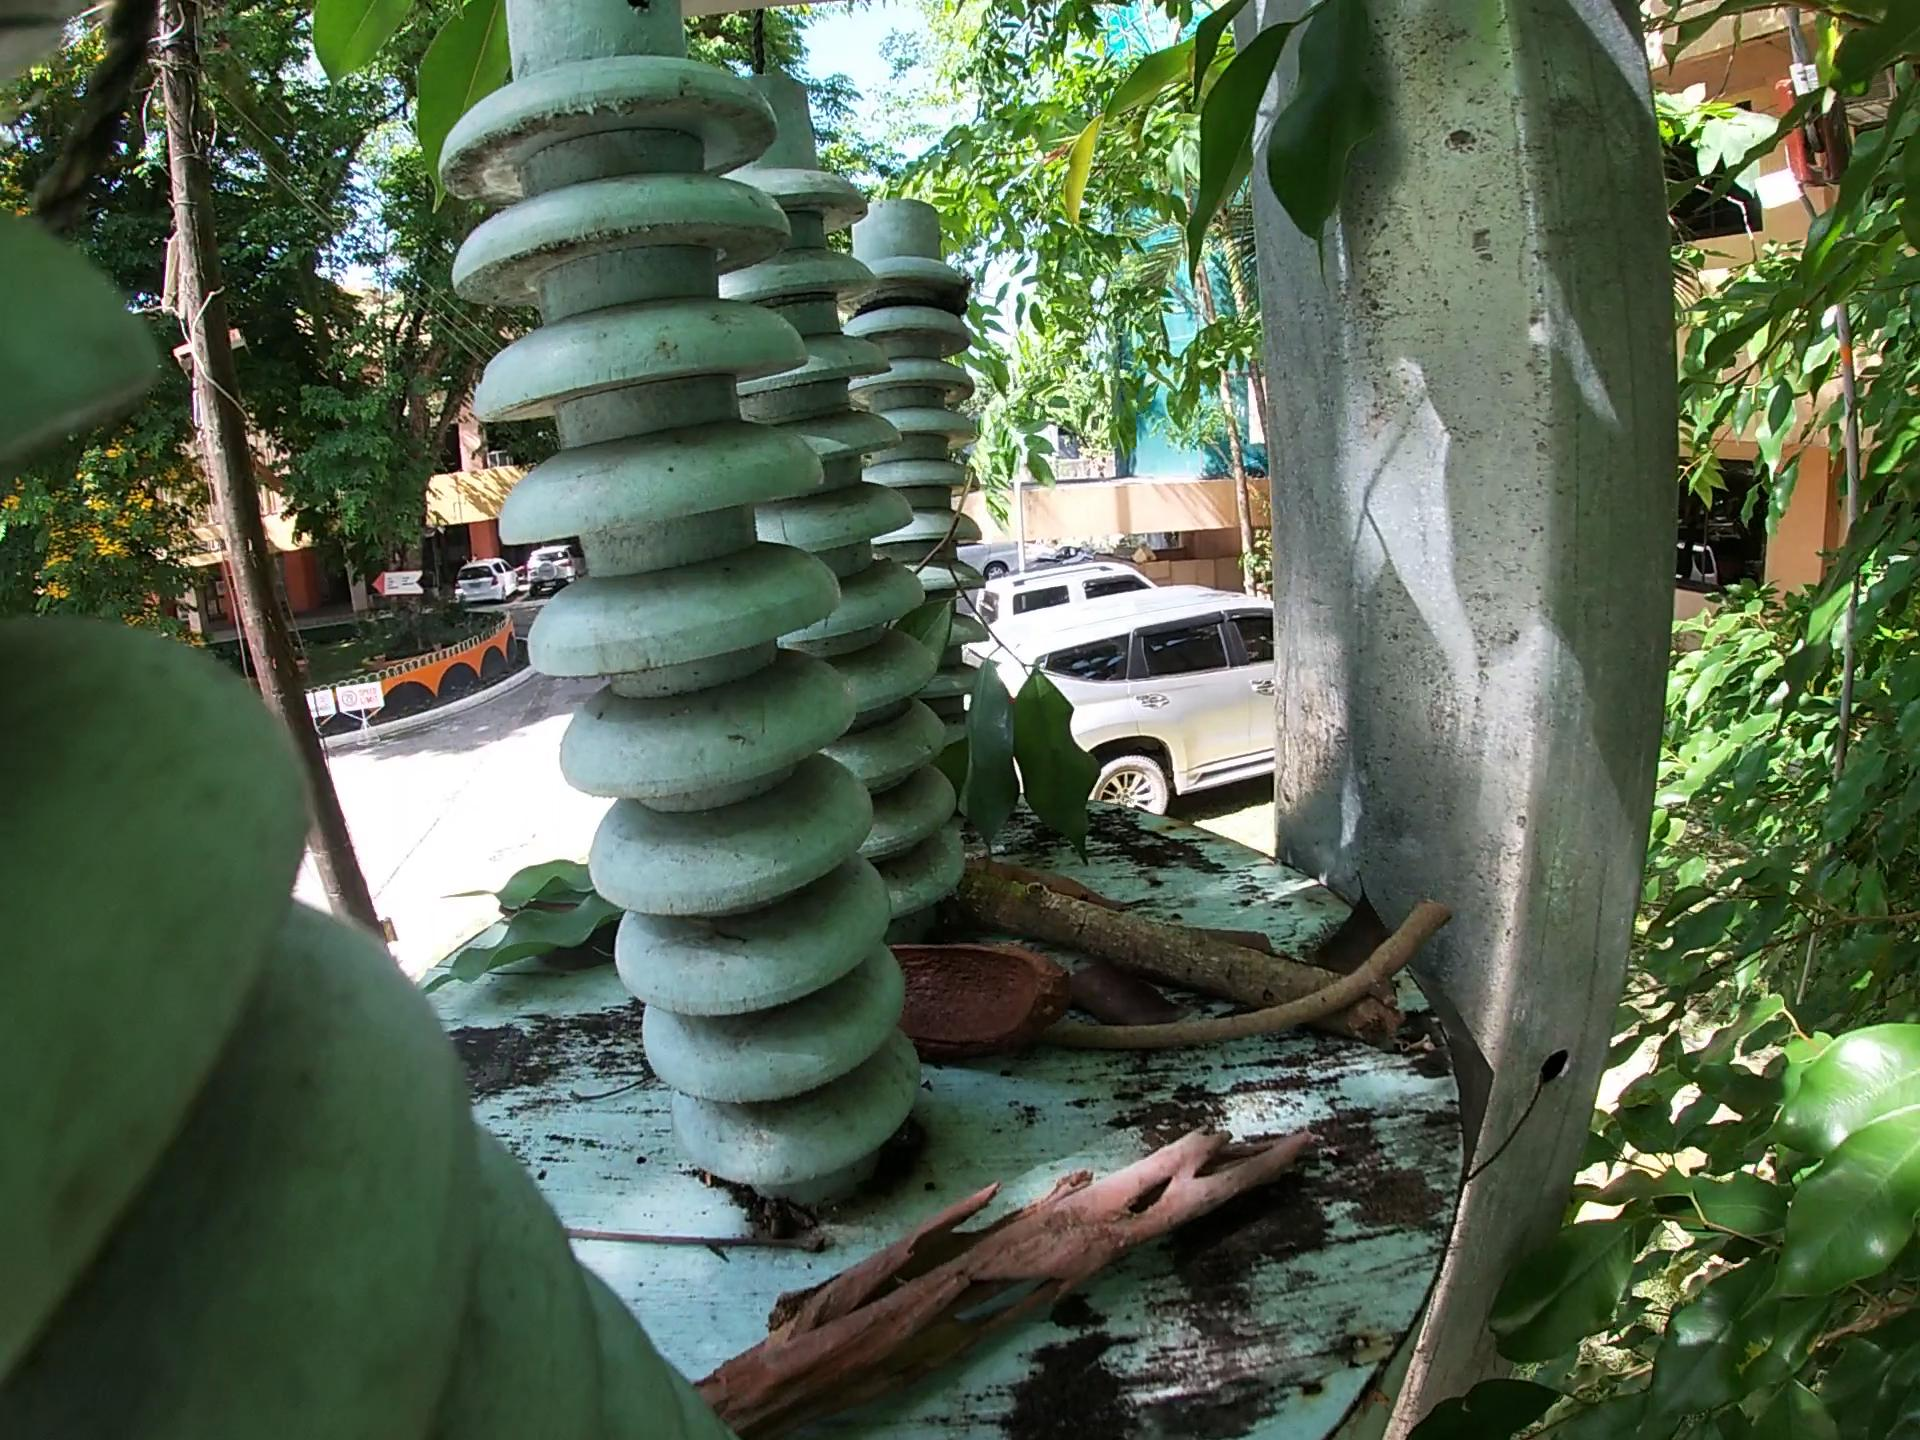branch with leaves: (884, 464, 1129, 846)
leaf: (419, 843, 653, 998), (1001, 855, 1161, 911), (1185, 909, 1311, 956)
mahogany fruit: (866, 930, 1085, 1056)
tree branch: (670, 1122, 1377, 1434), (968, 870, 1406, 1026), (1040, 911, 1494, 1050), (535, 1201, 847, 1280)
